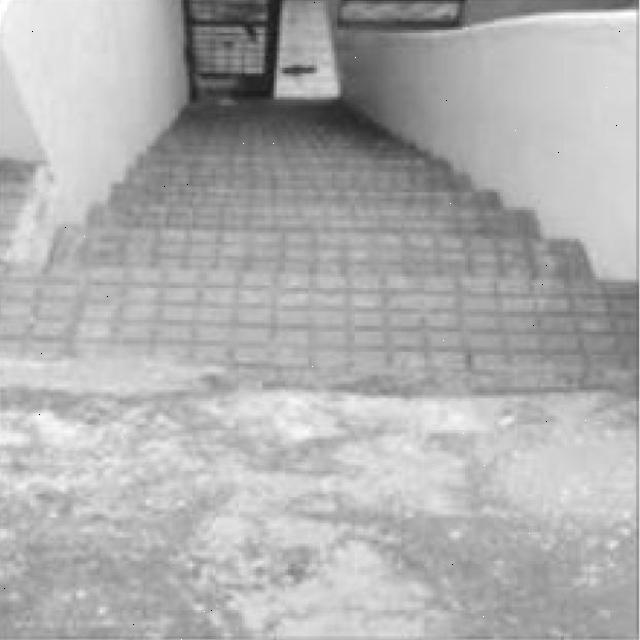stair: (88, 157, 511, 341)
